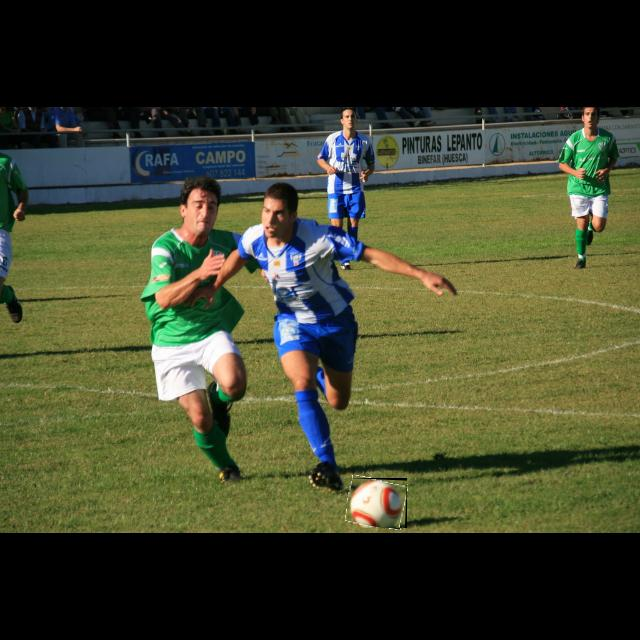Football: (347, 478, 407, 528)
